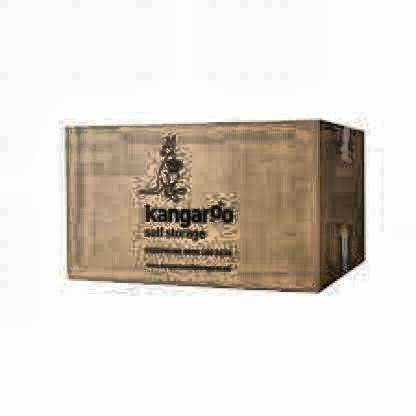no defect parcel: (41, 110, 376, 303)
